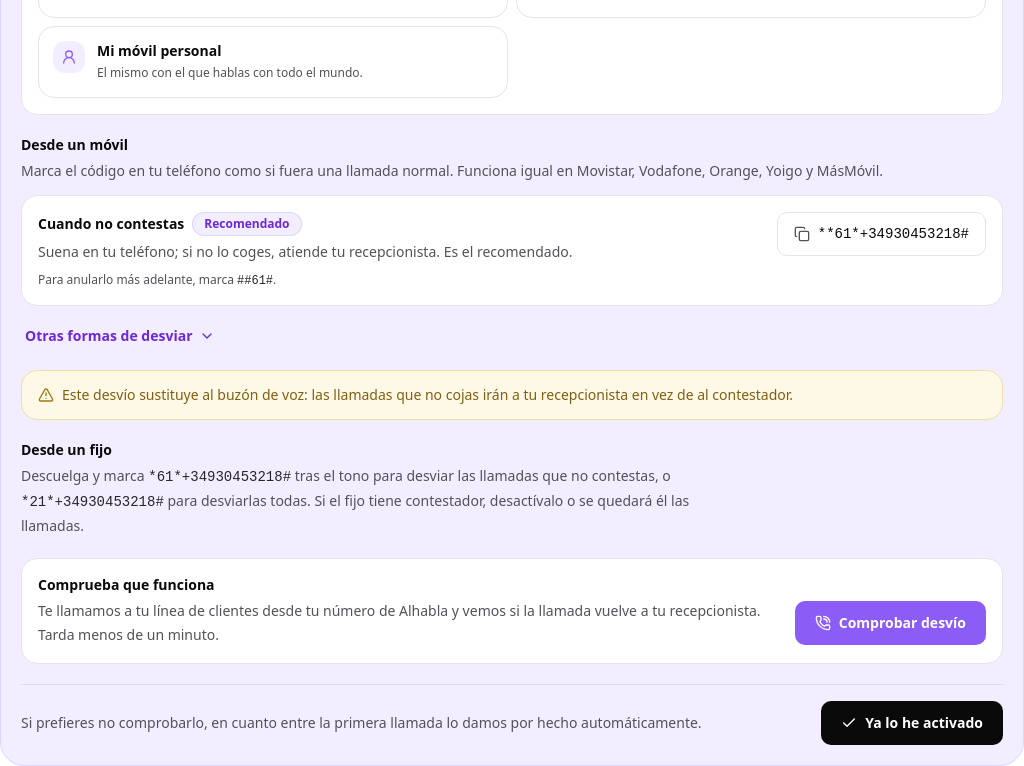
Test: CallForwardingCard · «Comprobar desvío» › «la has cogido» y «comunicando» tienen su propio texto
This screenshot has width=1024, height=766.
(page scrolled)
Click the button "Comprobar desvío" at (890, 623), box x1=795 y1=601 x2=986 y2=645
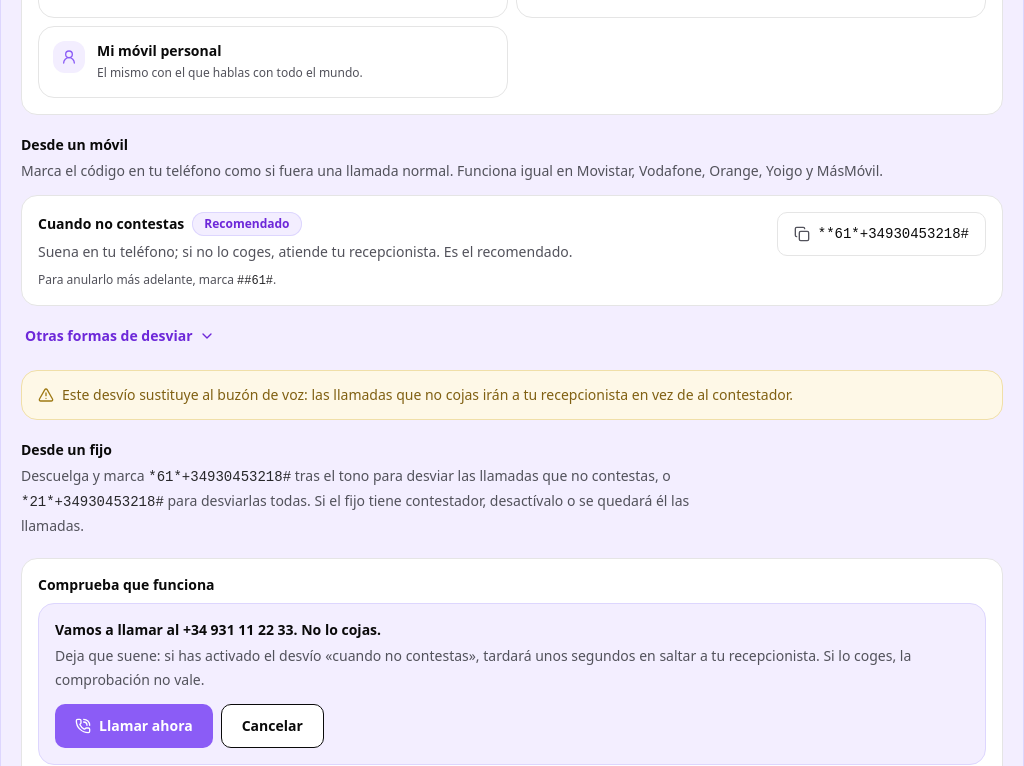
Click the button "Llamar ahora" at (134, 726), box x1=55 y1=704 x2=213 y2=748
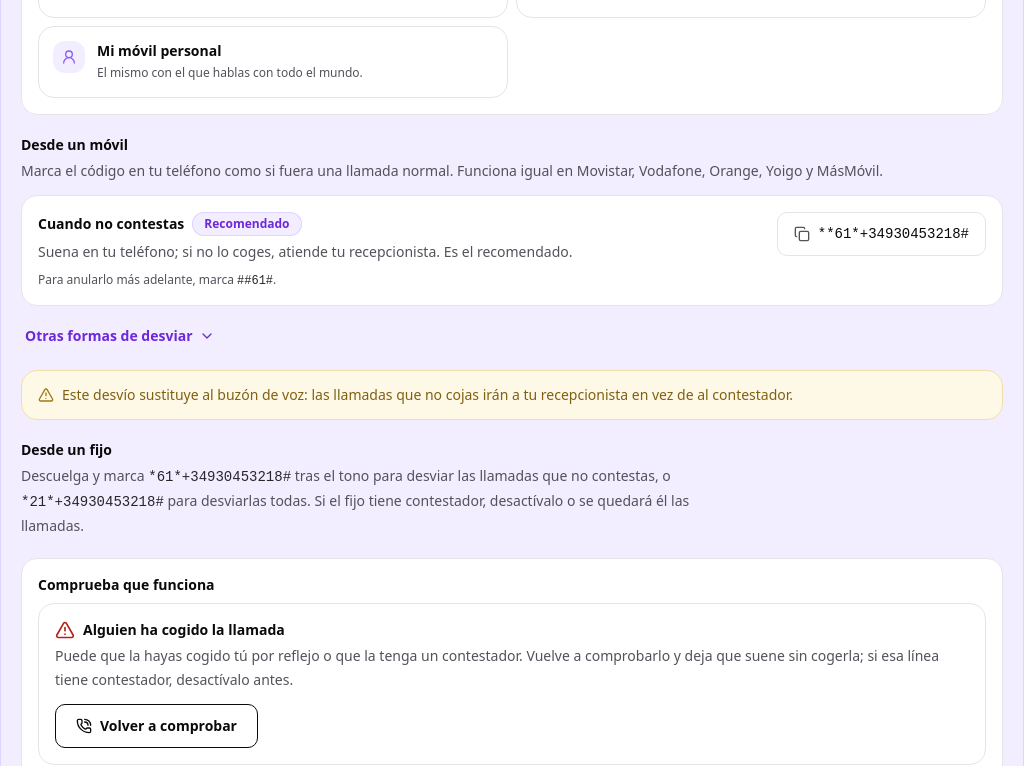
Now the text "Alguien ha cogido la llamada" is shown, box x1=55 y1=620 x2=285 y2=640
